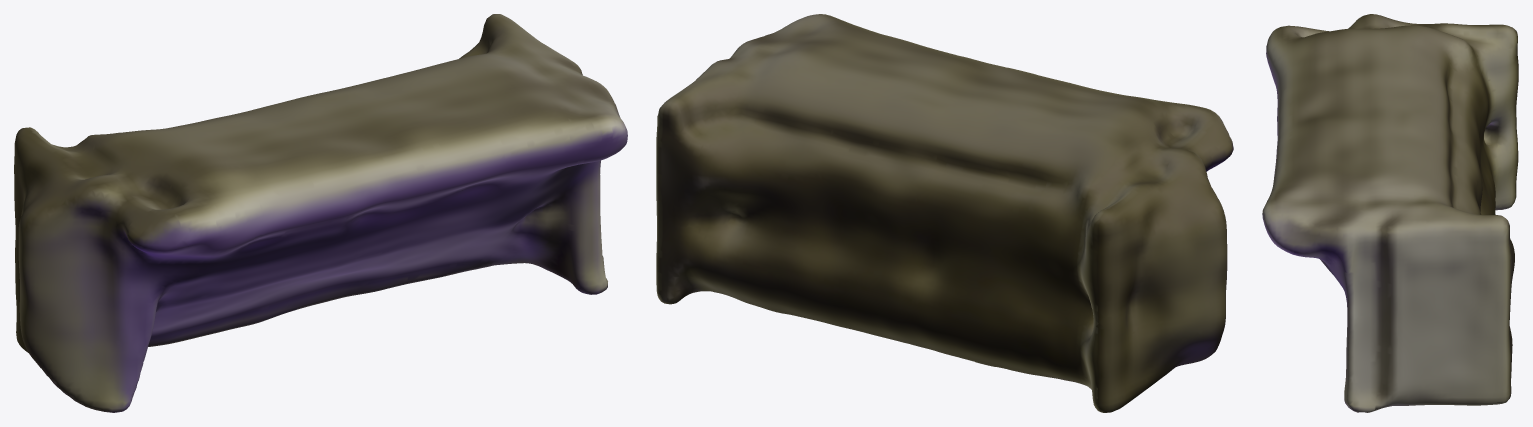
File: sofa.glb
3 views of the same model, side by side, from view 1: azimuth 30°, elevation 25°; view 2: azimuth 150°, elevation 25°; view 3: azimuth 270°, elevation 25° (orthographic). The views are drawn at different scales.
Size of the model in its own units: 0.9977 by 0.4164 by 0.4657.
